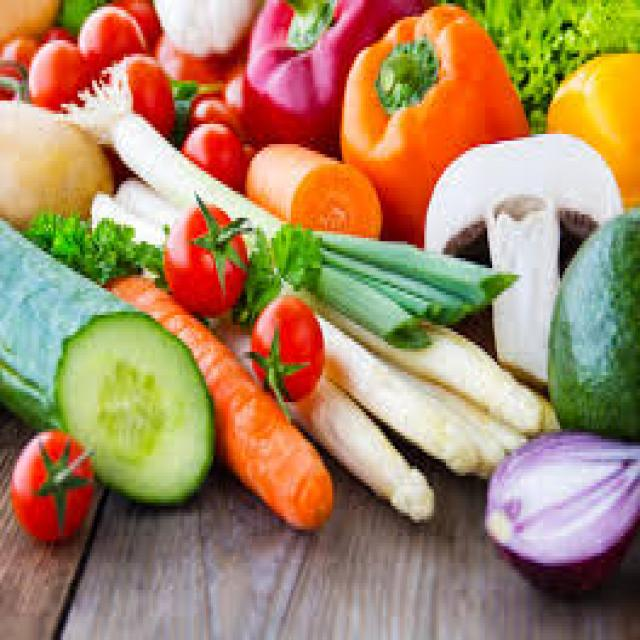organic waste: (53, 60, 541, 436), (97, 268, 332, 533), (0, 214, 211, 506), (422, 130, 618, 388), (206, 302, 432, 520), (339, 0, 526, 248), (269, 275, 485, 476), (240, 0, 429, 147), (300, 224, 516, 348), (478, 426, 638, 593), (438, 0, 638, 131), (543, 205, 638, 442), (376, 352, 526, 476), (0, 94, 112, 234), (546, 50, 638, 211), (242, 140, 378, 234), (162, 191, 248, 312), (19, 211, 162, 278), (10, 426, 94, 536), (245, 292, 322, 412), (238, 214, 320, 308), (150, 0, 252, 60), (152, 33, 220, 114), (114, 47, 174, 134), (187, 87, 257, 158), (27, 34, 92, 107), (70, 3, 143, 64), (180, 120, 242, 188), (104, 0, 165, 54), (0, 27, 39, 94), (0, 0, 53, 33), (165, 74, 191, 137), (220, 30, 250, 84), (221, 64, 247, 117), (59, 0, 100, 30), (536, 396, 560, 426), (36, 20, 70, 40)
